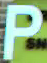Parking: (2, 1, 42, 62)
